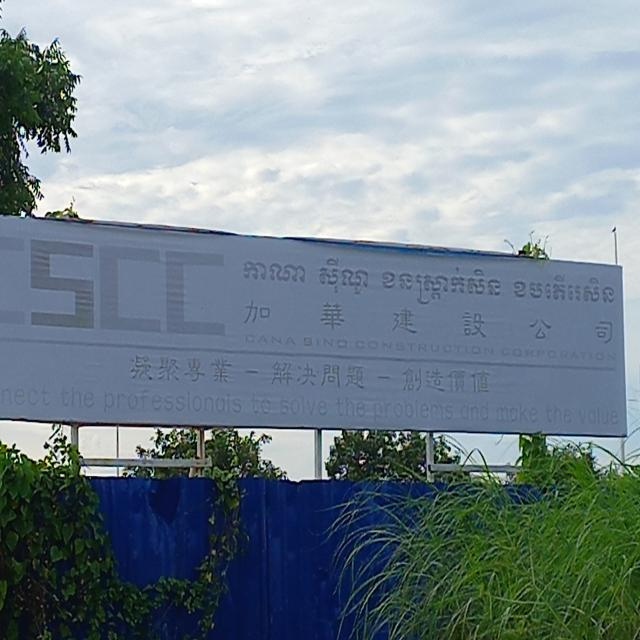Yolov11kh: (380, 261, 504, 310), (512, 273, 616, 305), (242, 254, 308, 285), (318, 256, 369, 296)
